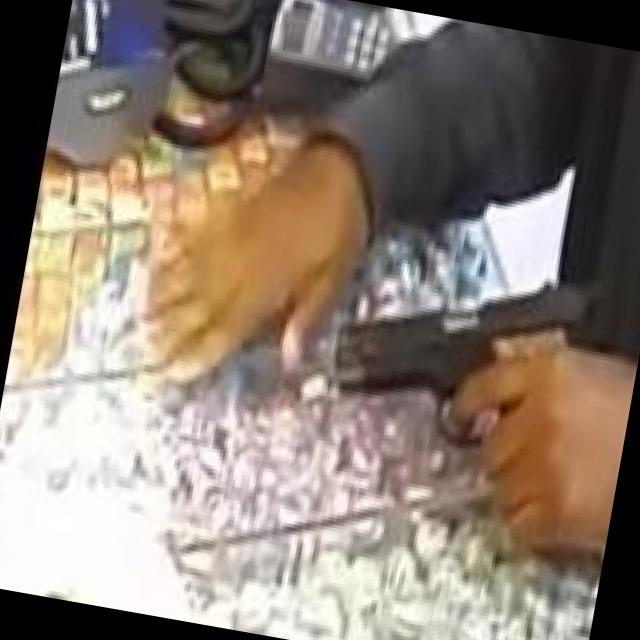Guns: (282, 231, 621, 541)
